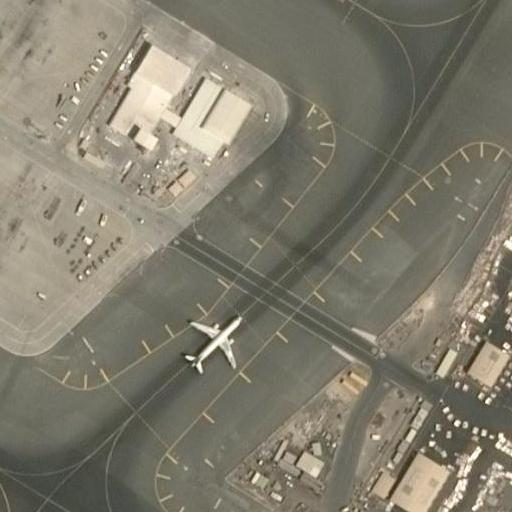Aircraft: (182, 304, 243, 373)
